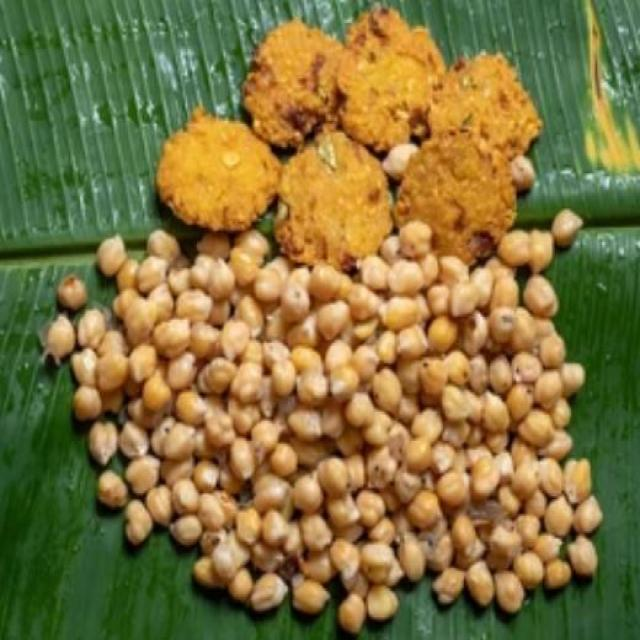SUNDAL: (49, 208, 603, 616)
VADA: (151, 4, 546, 269)
